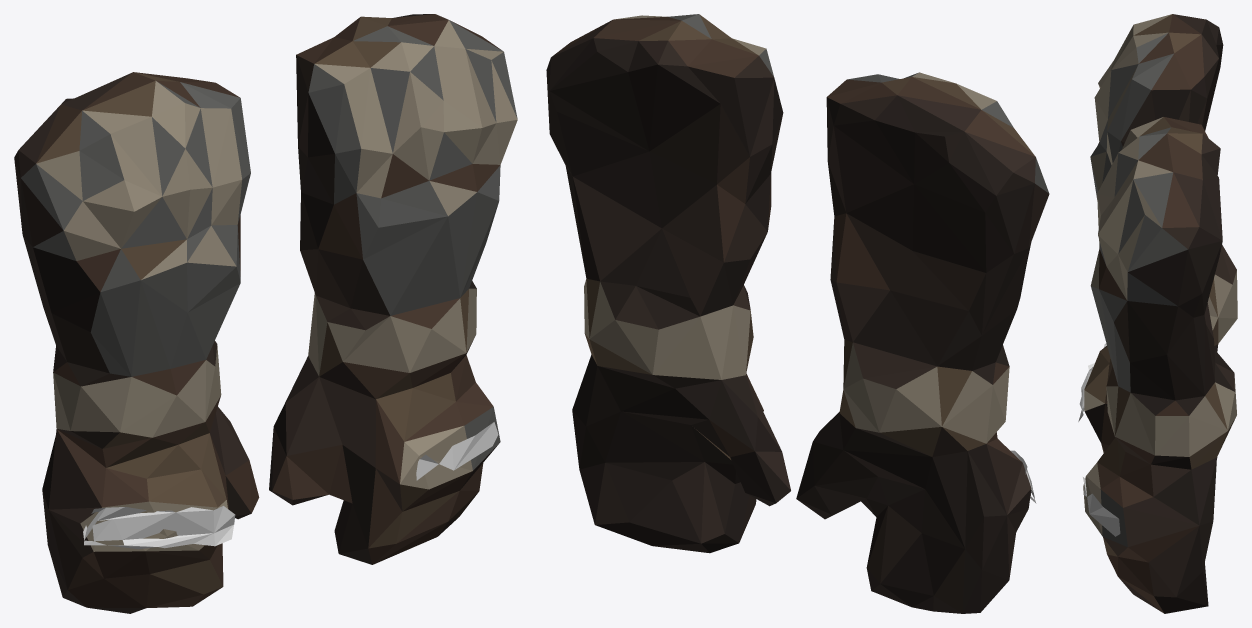
File: aiwpn_gloves.glb
3 renders of one model, left to right at view 1: azimuth 30°, elevation 25°; view 2: azimuth 150°, elevation 25°; view 3: azimuth 270°, elevation 25°, orthographic. The views are drawn at different scales.
Visible parts, largest first — view 1: ca_aiwpn_gloves; view 2: ca_aiwpn_gloves; view 3: ca_aiwpn_gloves.
Boxes of the visible parts, x1,y1,x2,y2 form: ca_aiwpn_gloves: (14,14,517,613); ca_aiwpn_gloves: (546,14,1049,613); ca_aiwpn_gloves: (1078,14,1237,613).
Size of the model in its own units: 0.4041 by 0.4182 by 0.1303.
